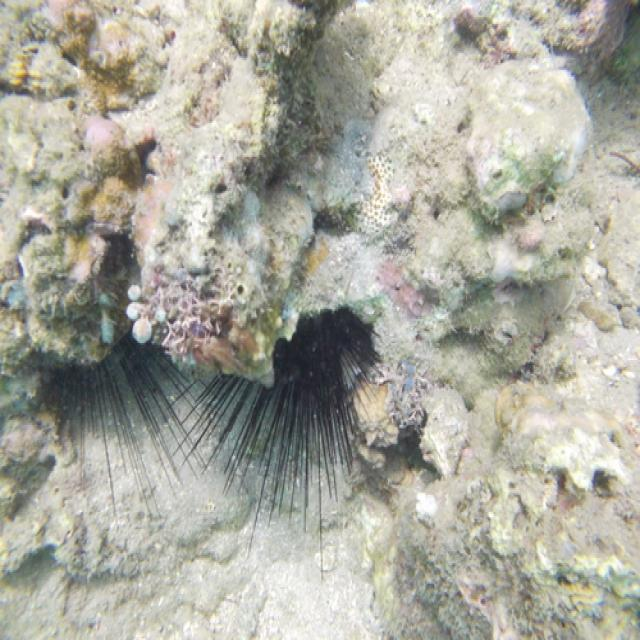Urchin: (192, 302, 381, 558), (30, 323, 212, 512)
